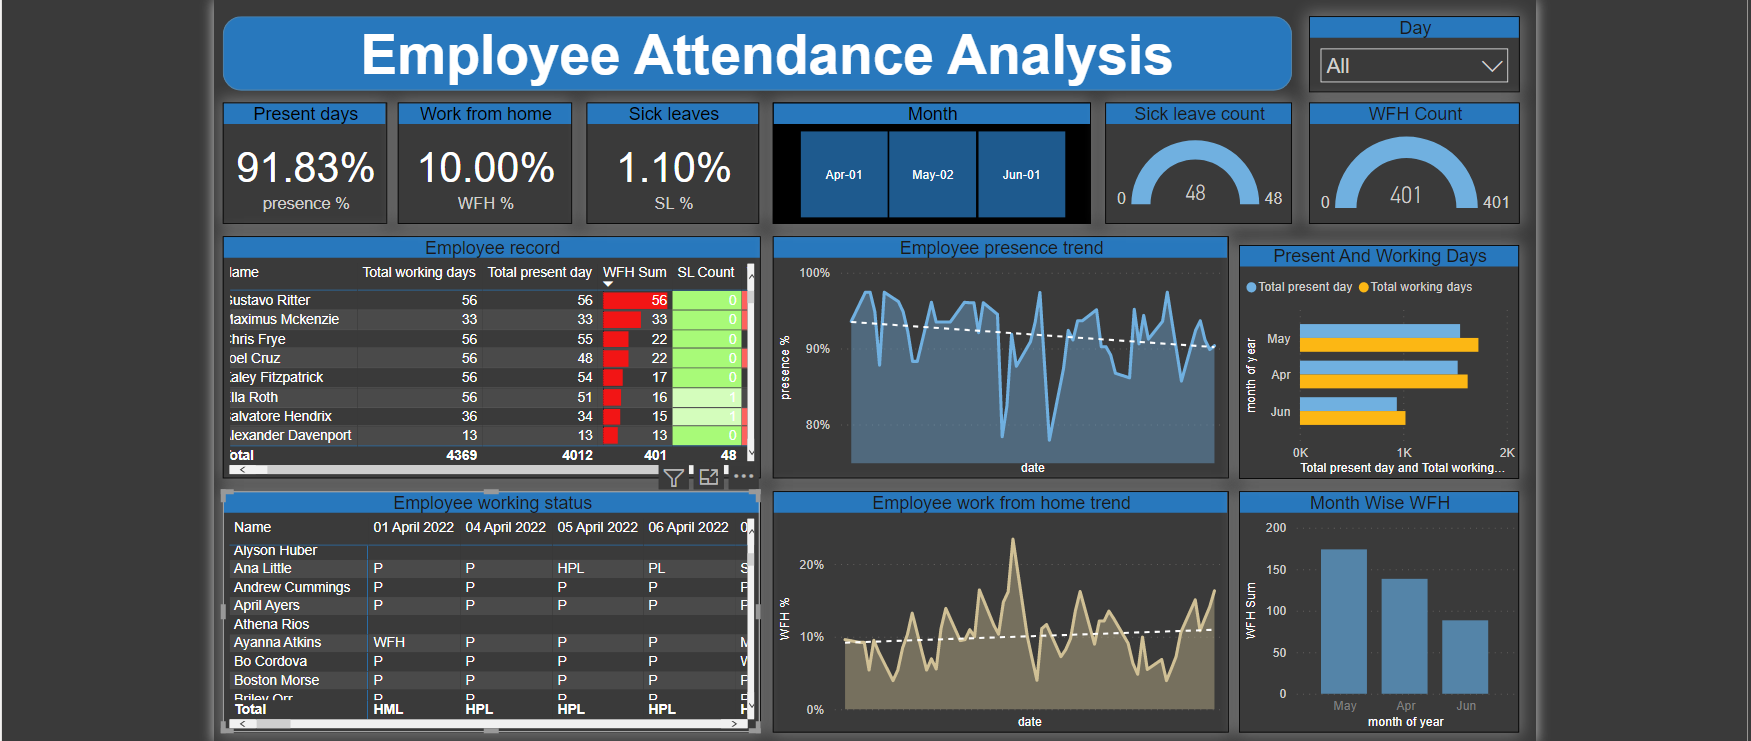

The dashboard page shown, as its layout file describes it:
{"tool":"powerbi","page":{"name":"Page 1","canvas":[1280,720],"ordinal":0},"visuals":[{"type":"card","title":"Present days","fields":{"Values":["Final data.presense %"]},"box":[8.6,99,158.9,117.4],"z":0},{"type":"tableEx","title":"Employee record","fields":{"Values":["Final data.Name","Final data.Total working days","Final data.total present day","Final data.WFH Sum","Final data.SL Count","Final data.WFH %"]},"box":[8.6,228.6,520.7,234.7],"z":1000},{"type":"pivotTable","title":"Employee working status","fields":{"Rows":["Final data.Name"],"Values":["Final data.Value"],"Columns":["Final data.date"]},"box":[8.6,475.5,520.7,233.5],"z":2000},{"type":"areaChart","title":"Employee presence trend","fields":{"Category":["Final data.date"],"Y":["Final data.presense %"]},"box":[540.3,228.6,441.3,234.7],"z":3000},{"type":"areaChart","title":"Employee work from home trend","fields":{"Category":["Final data.date"],"Y":["Final data.WFH %"]},"box":[540.3,475.5,441.3,233.5],"z":4000},{"type":"card","title":"Work from home","fields":{"Values":["Final data.WFH %"]},"box":[178.5,99,168.7,117.4],"z":5000},{"type":"card","title":"Sick leaves","fields":{"Values":["Final data.SL %"]},"box":[360.6,99,167.5,117.4],"z":6000},{"type":"slicer","title":"Day","fields":{"Values":["Final data.day of week"]},"box":[1059.8,15.9,204.1,73.3],"z":7000},{"type":"slicer","title":"Month","fields":{"Values":["Final data.month"]},"box":[540.3,99,308,117.4],"z":8000},{"type":"gauge","title":"WFH Count","fields":{"Y":["Final data.WFH Sum"]},"box":[1059.8,99,204.1,117.4],"z":9000},{"type":"gauge","title":"Sick leave count","fields":{"Y":["Final data.SL Count"]},"box":[863,99,180.9,117.4],"z":10000},{"type":"lineClusteredColumnComboChart","title":"Month Wise WFH","fields":{"Y":["Final data.WFH Sum"],"Category":["Final data.month of year"]},"box":[992.6,475.5,271.4,233.5],"z":11000},{"type":"shape","box":[8.6,15.9,1035.4,72.1],"z":12000},{"type":"clusteredBarChart","title":"Present And Working Days","fields":{"Category":["Final data.month of year"],"Y":["Final data.total present day","Final data.Total working days"]},"box":[992.6,237.1,271.4,226.1],"z":13000},{"type":"textbox","box":[124.7,6.1,814.1,89.2],"z":14000}]}

Visuals, with their boxes on the page's 1280x720 design canvas (x1, y1, x2, y2). These are canvas units, not pixel positions in the 1751x741 screenshot, which may show the page scaled, cropped or inside an application window:
"Present days" card: [left=9, top=99, right=168, bottom=216]
"Employee record" tableEx: [left=9, top=229, right=529, bottom=463]
"Employee working status" pivotTable: [left=9, top=476, right=529, bottom=709]
"Employee presence trend" areaChart: [left=540, top=229, right=982, bottom=463]
"Employee work from home trend" areaChart: [left=540, top=476, right=982, bottom=709]
"Work from home" card: [left=178, top=99, right=347, bottom=216]
"Sick leaves" card: [left=361, top=99, right=528, bottom=216]
"Day" slicer: [left=1060, top=16, right=1264, bottom=89]
"Month" slicer: [left=540, top=99, right=848, bottom=216]
"WFH Count" gauge: [left=1060, top=99, right=1264, bottom=216]
"Sick leave count" gauge: [left=863, top=99, right=1044, bottom=216]
"Month Wise WFH" lineClusteredColumnComboChart: [left=993, top=476, right=1264, bottom=709]
shape: [left=9, top=16, right=1044, bottom=88]
"Present And Working Days" clusteredBarChart: [left=993, top=237, right=1264, bottom=463]
textbox: [left=125, top=6, right=939, bottom=95]
